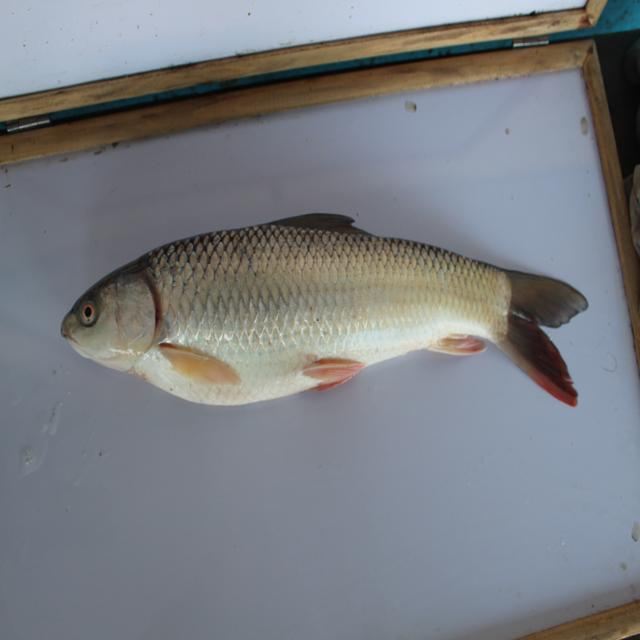Mori: (47, 207, 599, 462)
